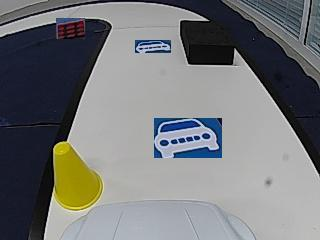block: (179, 20, 234, 64)
cone: (53, 143, 103, 210)
